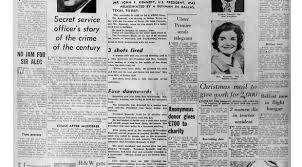Printing industry: (18, 3, 302, 167)
